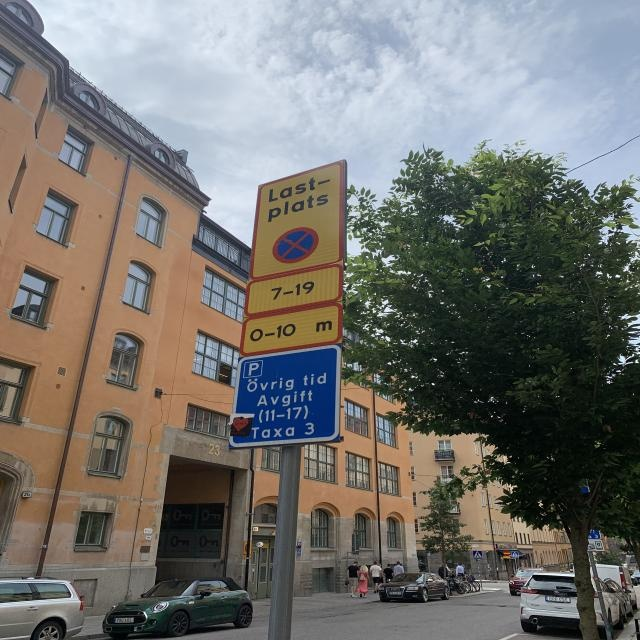lastplats: (247, 156, 350, 282)
